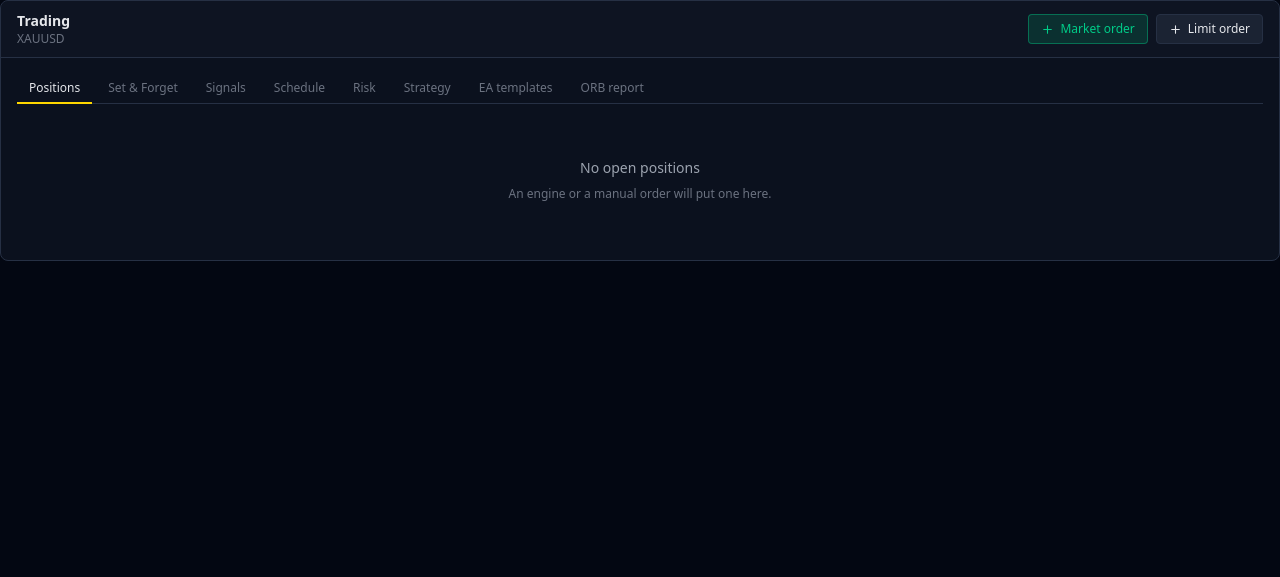
Test: EA templates › reports a save that could not be pushed as a save, not a failure
The width and height of the screenshot is (1280, 577).
Click the tab "EA templates": click(516, 89) [467,74,564,104]
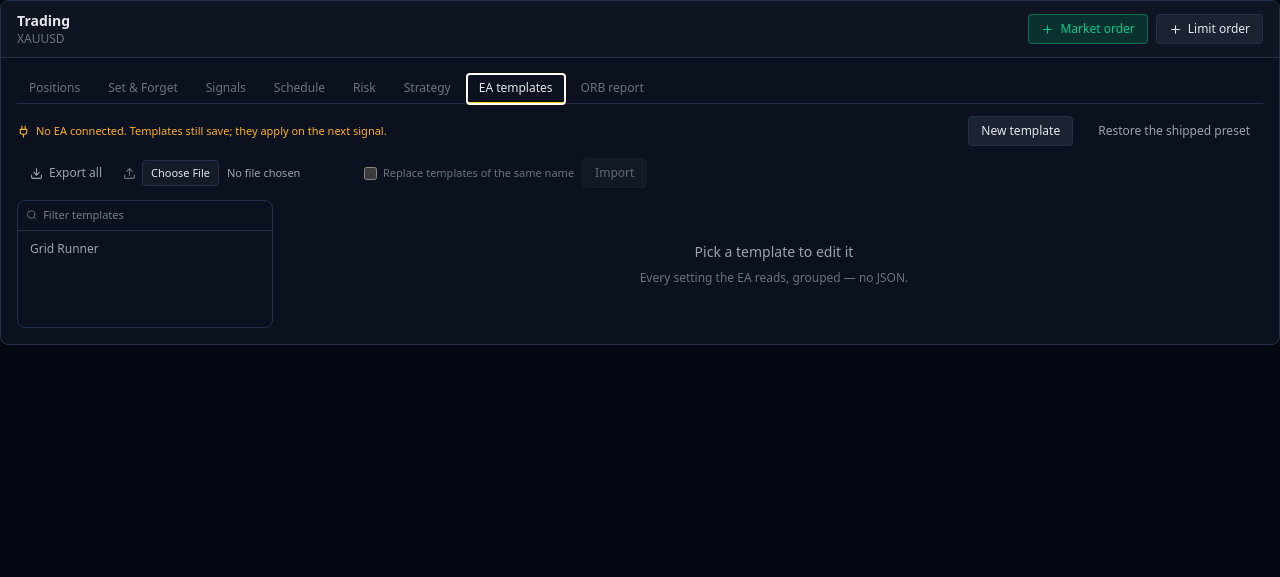
Click the button "Grid Runner": click(145, 248) [22,234,268,262]
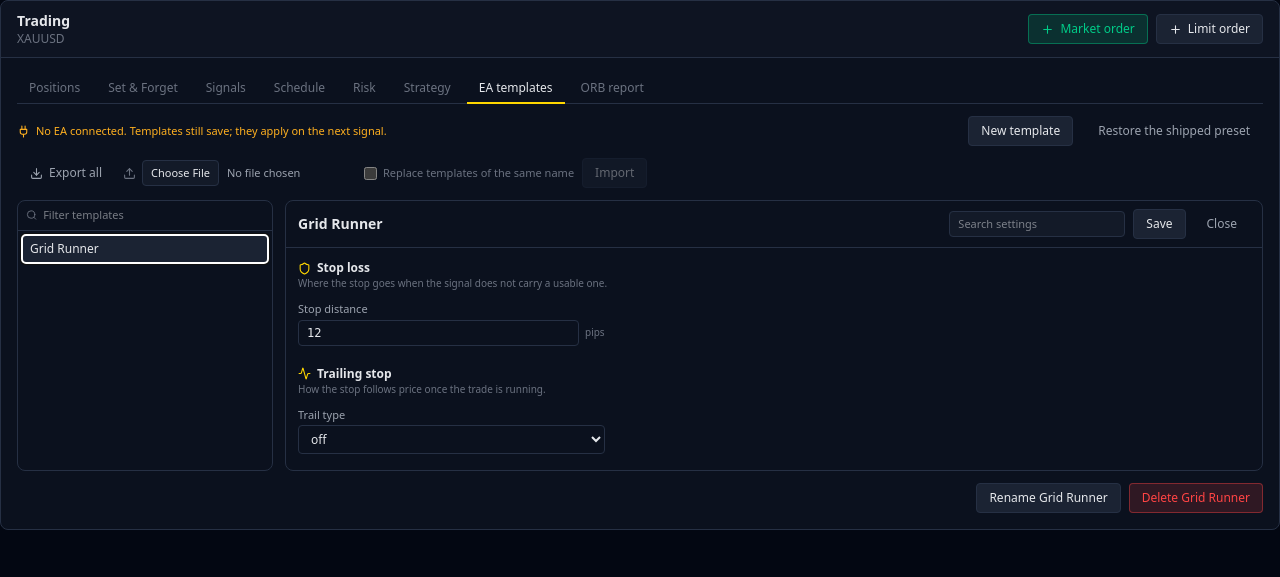
Click the button "Save": click(1159, 224) [1133,209,1186,239]
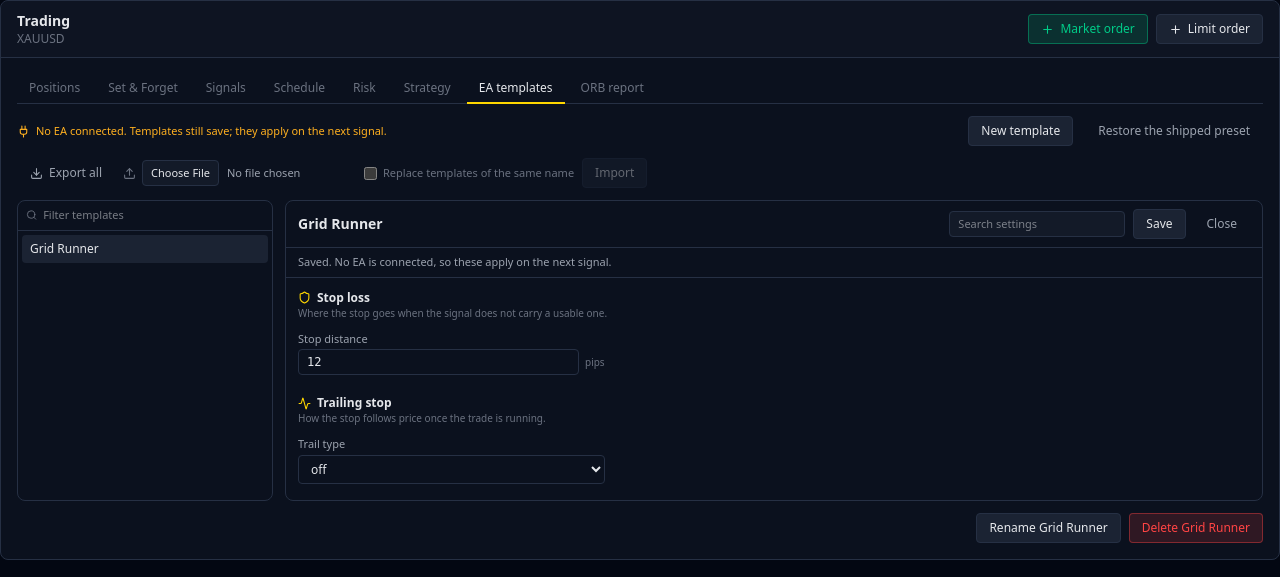
Now the message shows "Saved. No EA is connected", box [298,254,612,269]
